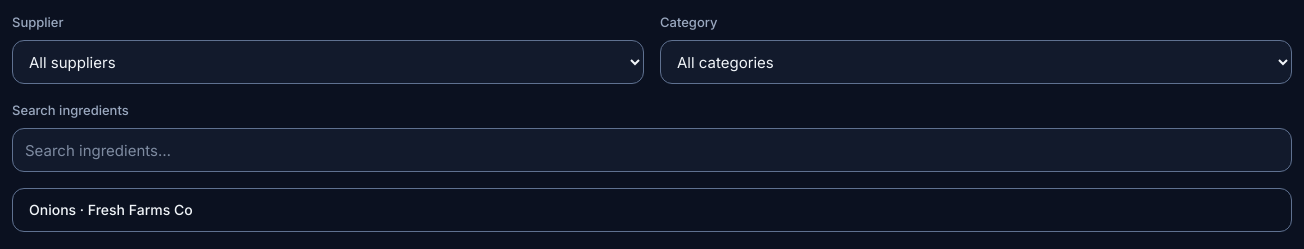
says so when nothing matches the search
Expected: the button "Onions · Fresh Farms Co" is shown, [12,188,1292,232]
Type "zzz" into the field labelled "Search ingredients" at (652, 150), box [12,128,1292,172]
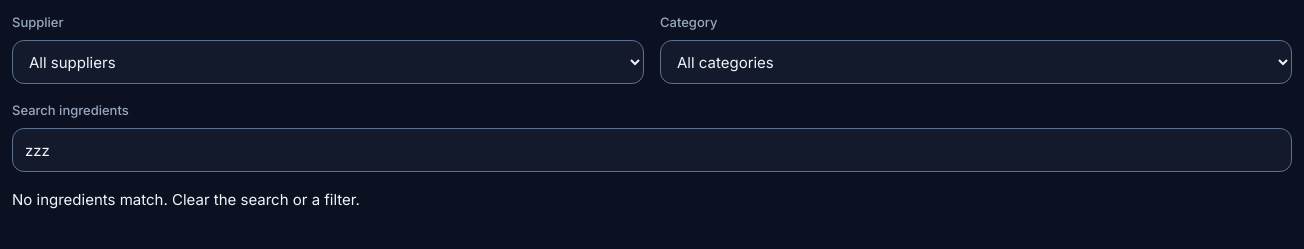
Expected: the text "No ingredients match. Clear the search or a filter." is shown, [12,190,360,209]
